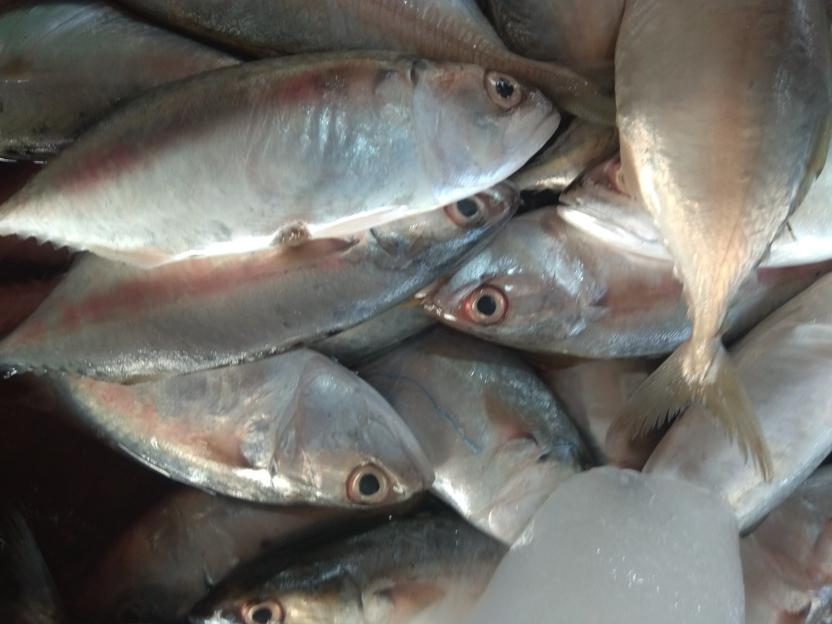Fish head: (422, 208, 605, 358), (268, 358, 436, 512), (407, 54, 563, 198), (187, 554, 367, 624), (371, 190, 516, 271)
Fish tail: (604, 339, 775, 486)
